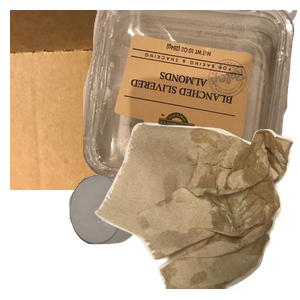cardboard: (10, 10, 250, 190)
glass: (67, 172, 229, 300)
plastic: (83, 10, 300, 190)
trash: (92, 120, 300, 300)
